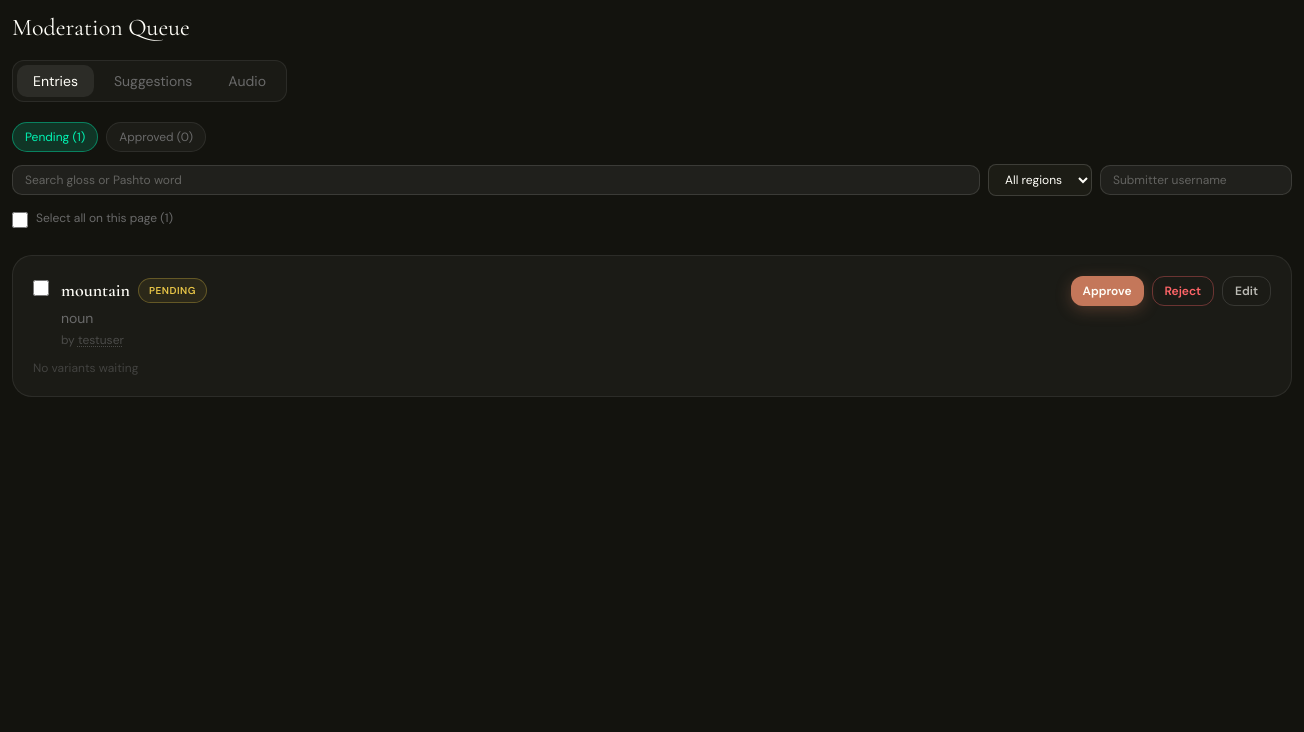
Test: Inline edit form — Concepts tab › pre-populates the concept edit form with the existing englishGloss
Expected: the text "mountain" is shown, x1=61 y1=276 x2=130 y2=304
Click the button "Edit" at {"x": 1247, "y": 291}, box x1=1222 y1=276 x2=1271 y2=306
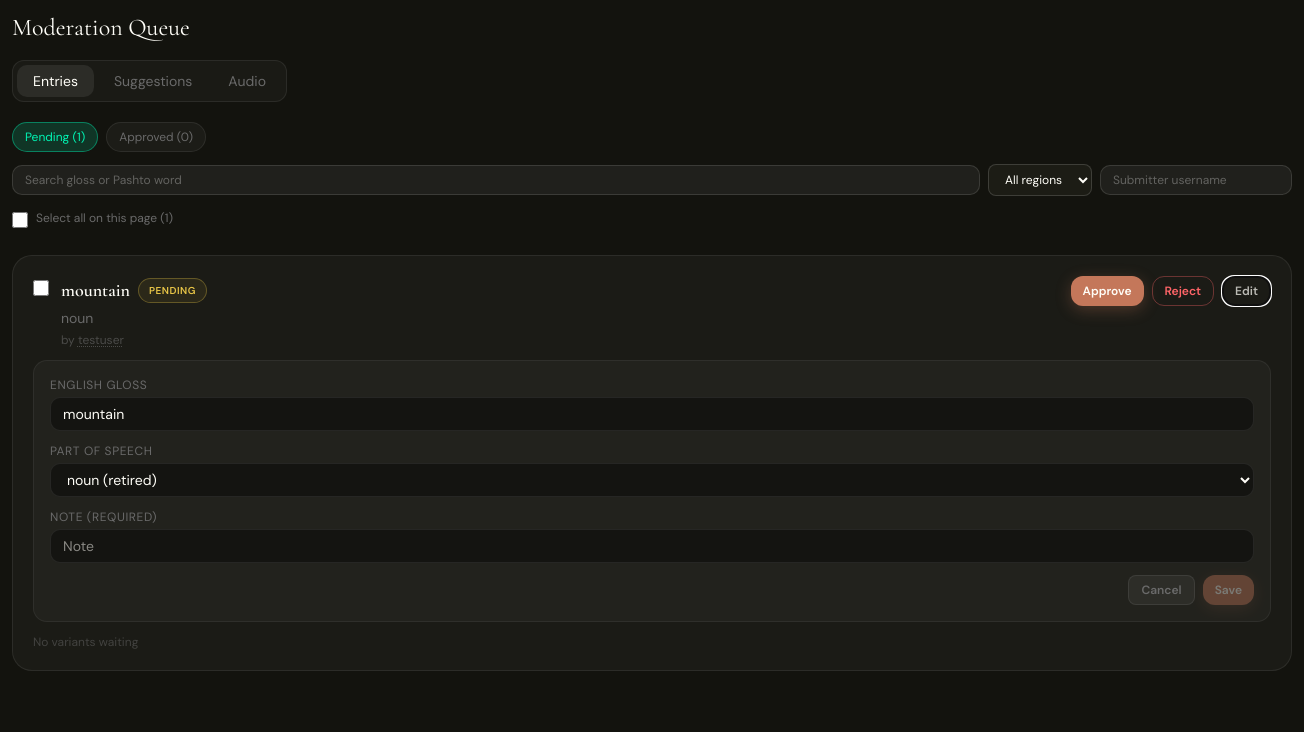
Expected: the field showing "mountain" is shown, x1=50 y1=397 x2=1254 y2=431
